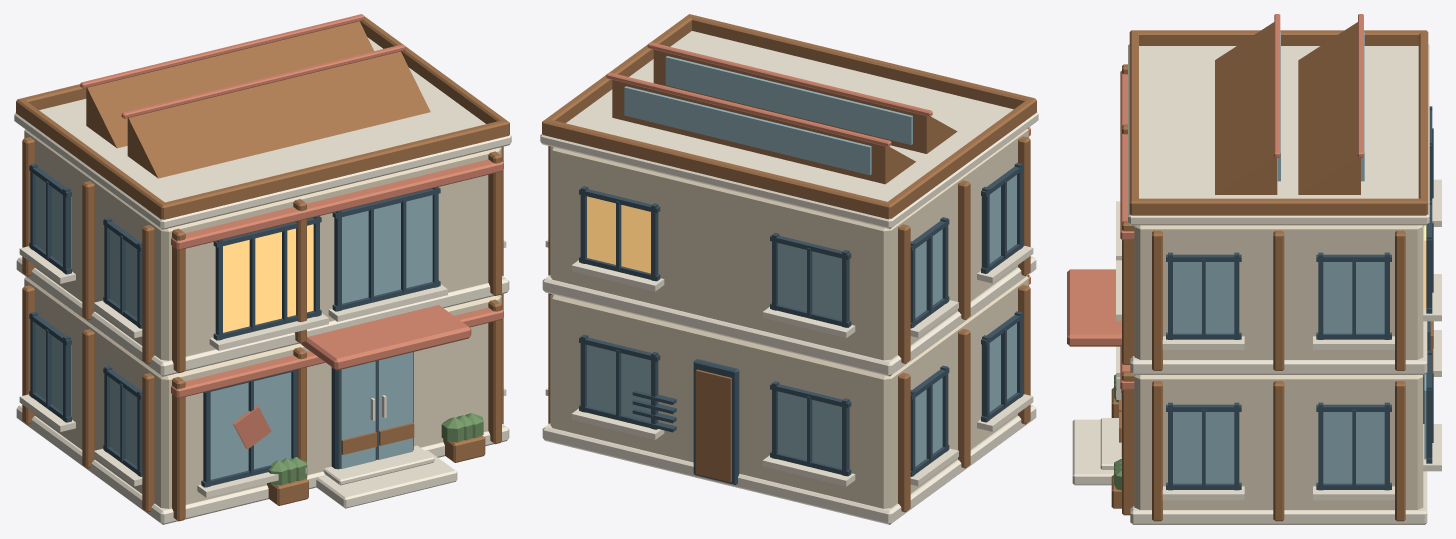
The model's file is creative-l02.glb.
3 views of the same model, side by side, from view 1: azimuth 30°, elevation 25°; view 2: azimuth 150°, elevation 25°; view 3: azimuth 270°, elevation 25° (orthographic).
Parts seen in each view (by area): view 1: creative_L02; view 2: creative_L02; view 3: creative_L02.
Boxes of the visible parts, x1,y1,x2,y2 form: creative_L02: (14, 14, 511, 524); creative_L02: (540, 14, 1038, 524); creative_L02: (1067, 14, 1441, 524).
Size of the model in its own units: 5.57 by 5.03 by 4.8.
